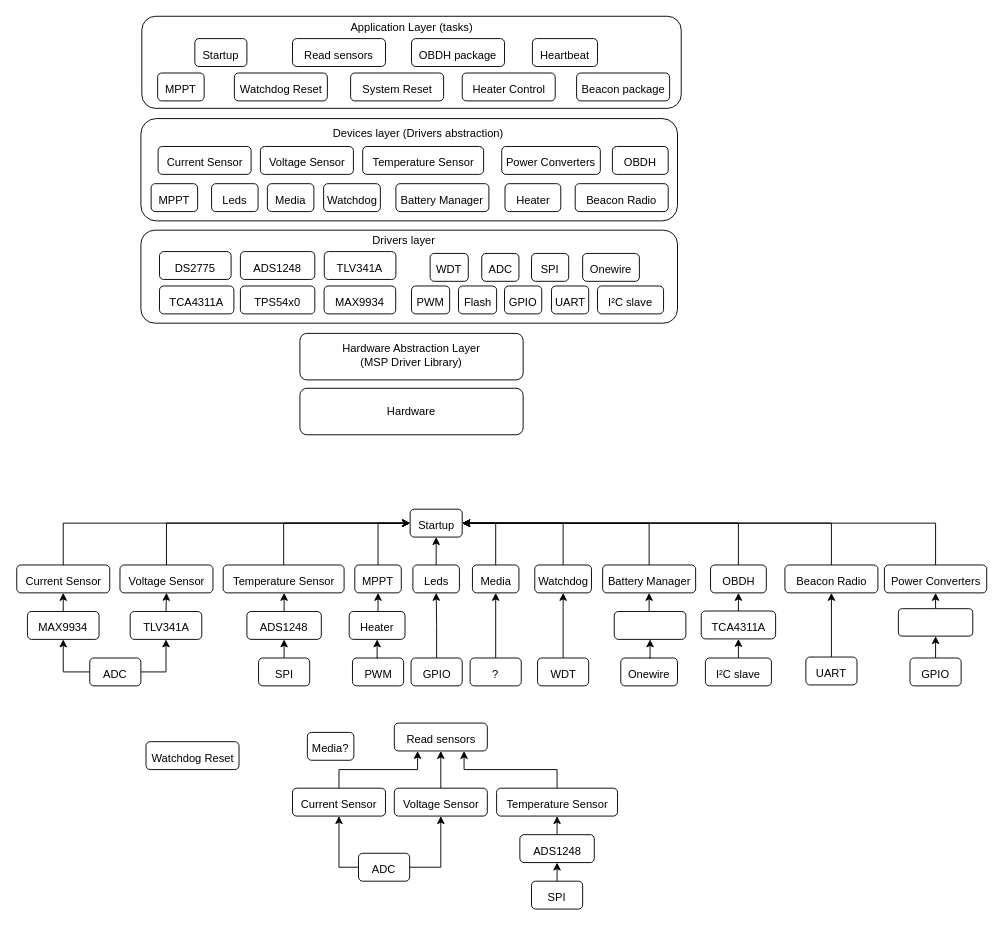
The diagram is 1003 pixels wide and 925 high, and some of its shapes have lost their labels. Here are the shapes that lost their labels. From the top down, the centre of each, then its label:
[649,625]: DS2775+
[935,622]: TPS54
